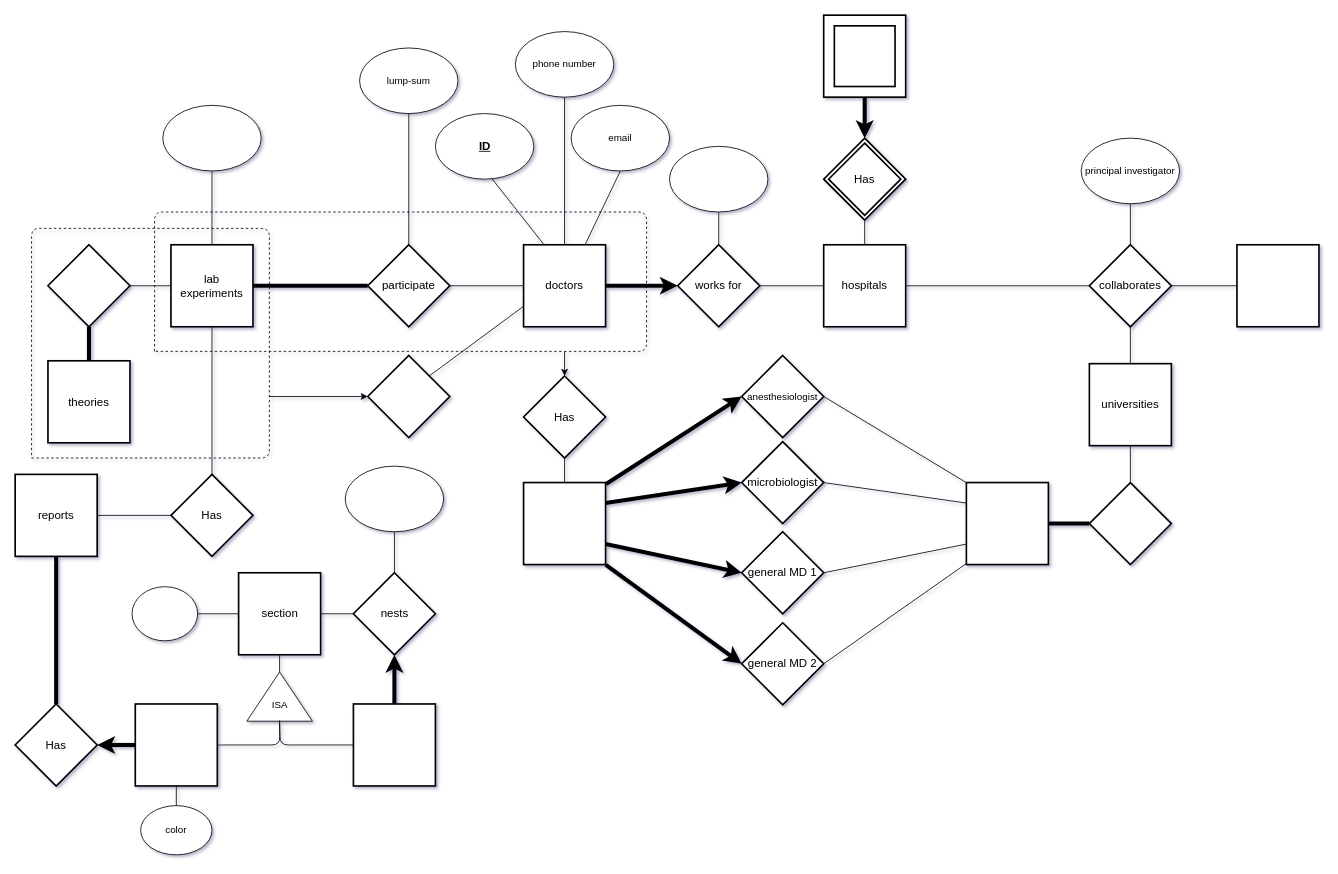
Some shapes in this 1338 by 874 pixel diagram are drawn without their labels. The centre of each missing label's shape, as x and y in pixels:
clinics: point 864,56
compensation: point 211,138
director: point 408,396
number code: point 164,613
salary: point 718,179
secretary: point 394,498
serve: point 88,285
students: point 1007,523
studies in: point 1130,523
subsection: point 394,744
top-level section: point 176,744
trainee team: point 564,523
years: point 1277,285
